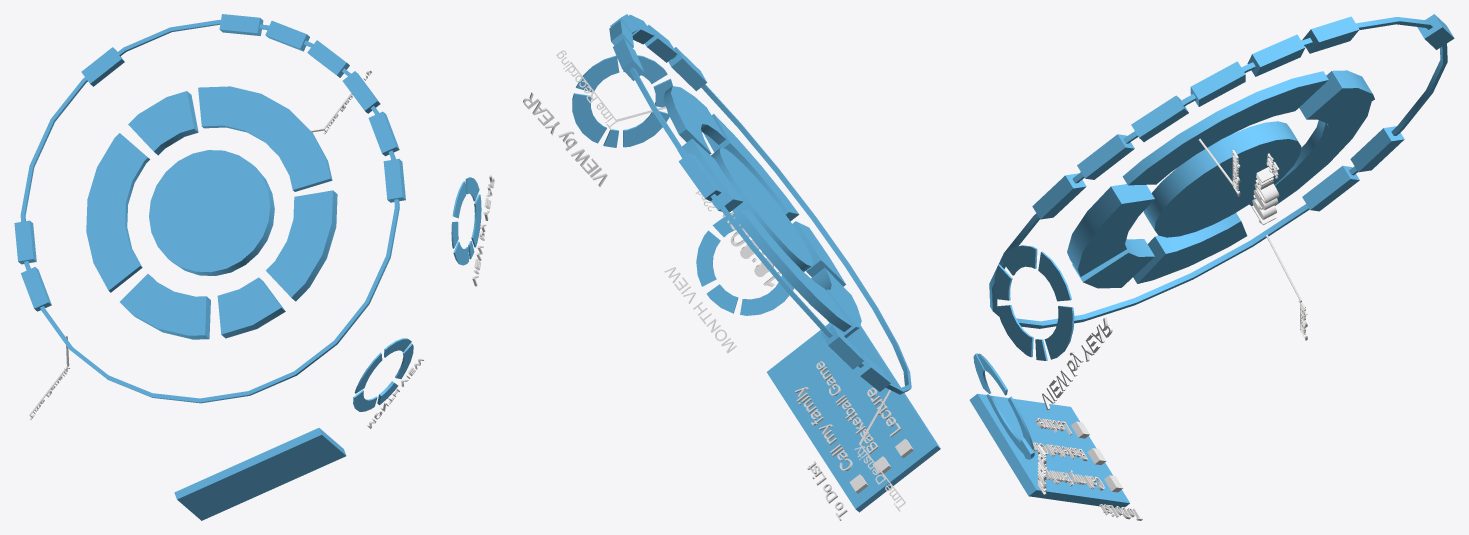
The picture shows the model from 3 angles, left to right: view 1: azimuth 30°, elevation 25°; view 2: azimuth 150°, elevation 25°; view 3: azimuth 270°, elevation 25°; orthographic projection. The views are drawn at different scales.
Visible parts, largest first — view 1: Group1; view 2: Group1; view 3: Group1.
Part boxes in pixels (x1=…): Group1: x1=14, y1=14, x2=494, y2=520; Group1: x1=523, y1=14, x2=940, y2=520; Group1: x1=969, y1=14, x2=1454, y2=520.
Bounding box in the file's own units: 3623 × 3725 × 2873.
